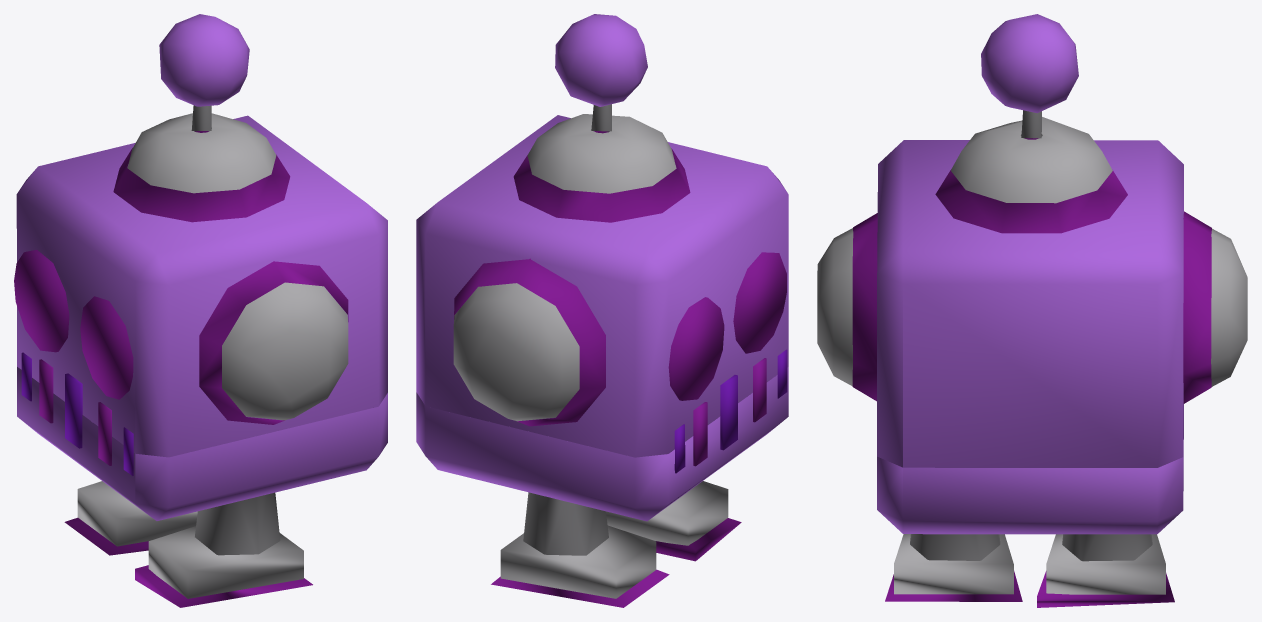
File: ReleaseRobot.fbx
3 views of the same model, side by side, from view 1: azimuth 30°, elevation 25°; view 2: azimuth 150°, elevation 25°; view 3: azimuth 270°, elevation 25° (orthographic). The views are drawn at different scales.
Parts seen in each view (by area): view 1: Release Robot; view 2: Release Robot; view 3: Release Robot.
Part boxes in pixels (x1=…): Release Robot: x1=14, y1=14, x2=387, y2=607; Release Robot: x1=416, y1=14, x2=788, y2=607; Release Robot: x1=817, y1=14, x2=1247, y2=607.
Size of the model in its own units: 116 by 231 by 159.
